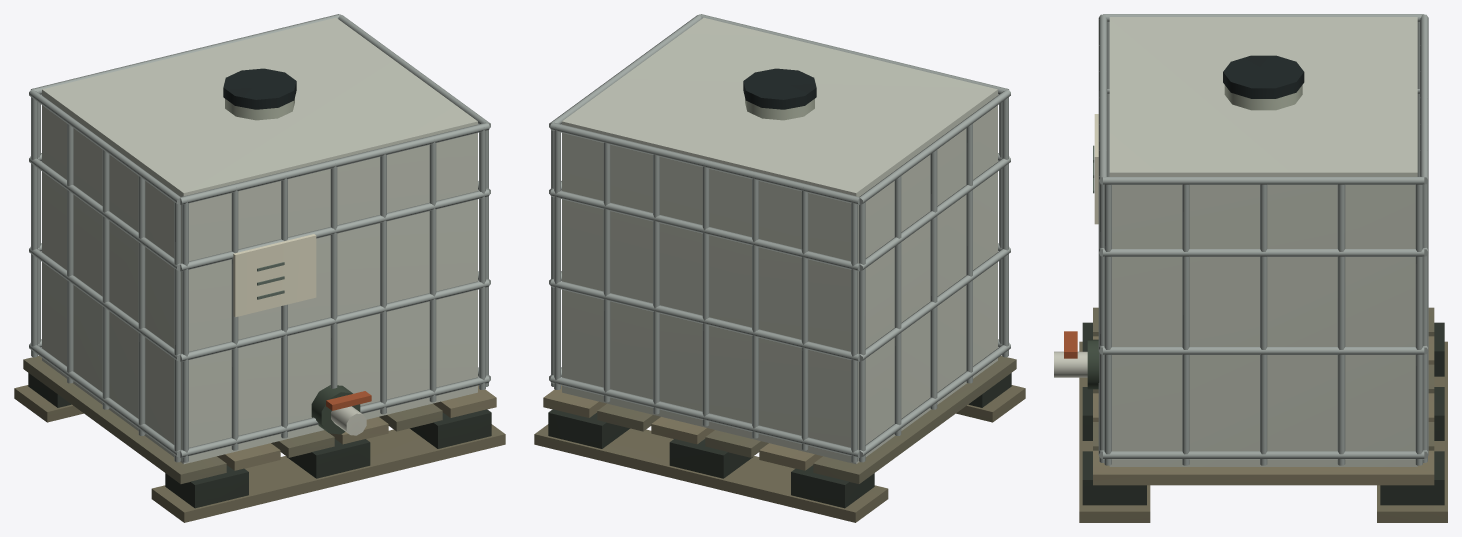
File: water-tank-course.glb
The picture shows the model from 3 angles, left to right: view 1: azimuth 30°, elevation 25°; view 2: azimuth 150°, elevation 25°; view 3: azimuth 270°, elevation 25°; orthographic projection. The views are drawn at different scales.
Visible parts, largest first — view 1: Rounded opaque HDPE water vessel.001, Pallet runner.003, Blank original service-label holder.001, Pallet deck plank.006, Water-tank cage horizontal rail.015, Water-tank cage horizontal rail.011, Screw-on filler lid.001, Water-tank cage horizontal rail.009, Water-tank cage horizontal rail.013, Pallet support block.007, Pallet support block.009, Pallet support block.011 (+29 smaller); view 2: Rounded opaque HDPE water vessel.001, Pallet runner.002, Pallet deck plank.006, Water-tank cage horizontal rail.014, Water-tank cage horizontal rail.010, Water-tank cage horizontal rail.012, Water-tank cage horizontal rail.008, Screw-on filler lid.001, Pallet support block.006, Pallet support block.008, Pallet support block.010, Welded tank-cage vertical member.015 (+26 smaller); view 3: Rounded opaque HDPE water vessel.001, Pallet deck plank.011, Screw-on filler lid.001, Water-tank cage end rail.009, Water-tank cage end rail.015, Water-tank cage end rail.011, Water-tank cage end rail.013, Welded tank-cage end member.016, Pallet runner.002, Welded tank-cage end member.018, Welded tank-cage end member.019, Welded tank-cage end member.015 (+18 smaller).
Part boxes in pixels (<box>): Rounded opaque HDPE water vessel.001: <box>42,17,477,464</box>; Pallet runner.003: <box>151,424,505,522</box>; Blank original service-label holder.001: <box>233,234,316,317</box>; Pallet deck plank.006: <box>23,355,226,483</box>; Water-tank cage horizontal rail.015: <box>180,122,489,205</box>; Water-tank cage horizontal rail.011: <box>180,279,489,361</box>; Screw-on filler lid.001: <box>223,68,296,109</box>; Water-tank cage horizontal rail.009: <box>180,375,489,457</box>; Water-tank cage horizontal rail.013: <box>180,189,489,271</box>; Pallet support block.007: <box>165,465,248,508</box>; Pallet support block.009: <box>287,439,370,478</box>; Pallet support block.011: <box>410,409,491,448</box>; Rounded opaque HDPE water vessel.001: <box>562,17,997,464</box>; Pallet runner.002: <box>534,424,888,522</box>; Pallet deck plank.006: <box>813,355,1016,483</box>; Water-tank cage horizontal rail.014: <box>550,122,859,205</box>; Water-tank cage horizontal rail.010: <box>550,279,859,361</box>; Water-tank cage horizontal rail.012: <box>550,189,859,271</box>; Water-tank cage horizontal rail.008: <box>550,375,859,457</box>; Screw-on filler lid.001: <box>743,68,816,109</box>; Pallet support block.006: <box>791,465,874,508</box>; Pallet support block.008: <box>669,439,752,478</box>; Pallet support block.010: <box>548,409,629,448</box>; Welded tank-cage vertical member.015: <box>801,187,808,450</box>; Rounded opaque HDPE water vessel.001: <box>1109,17,1417,466</box>; Pallet deck plank.011: <box>1093,450,1434,485</box>; Screw-on filler lid.001: <box>1223,55,1304,98</box>; Water-tank cage end rail.009: <box>1103,451,1424,459</box>; Water-tank cage end rail.015: <box>1103,177,1424,184</box>; Water-tank cage end rail.011: <box>1103,347,1424,354</box>; Water-tank cage end rail.013: <box>1103,249,1424,256</box>; Welded tank-cage end member.016: <box>1337,184,1345,465</box>; Pallet runner.002: <box>1377,341,1447,522</box>; Welded tank-cage end member.018: <box>1182,184,1189,465</box>; Welded tank-cage end member.019: <box>1104,184,1111,465</box>; Welded tank-cage end member.015: <box>1415,184,1422,465</box>.
Size of the model in its own units: 1.19 by 1.2 by 1.17.
